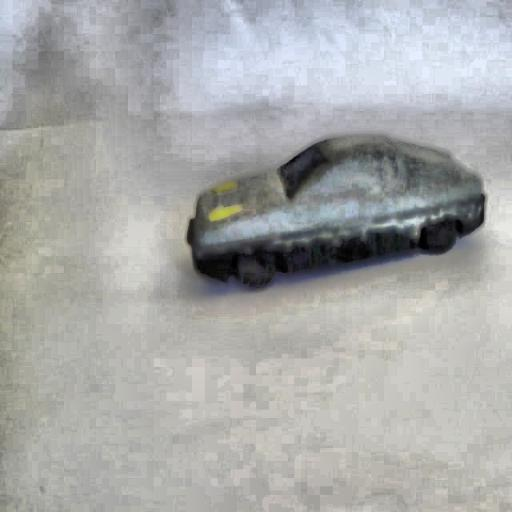normal_car: (182, 129, 488, 294)
